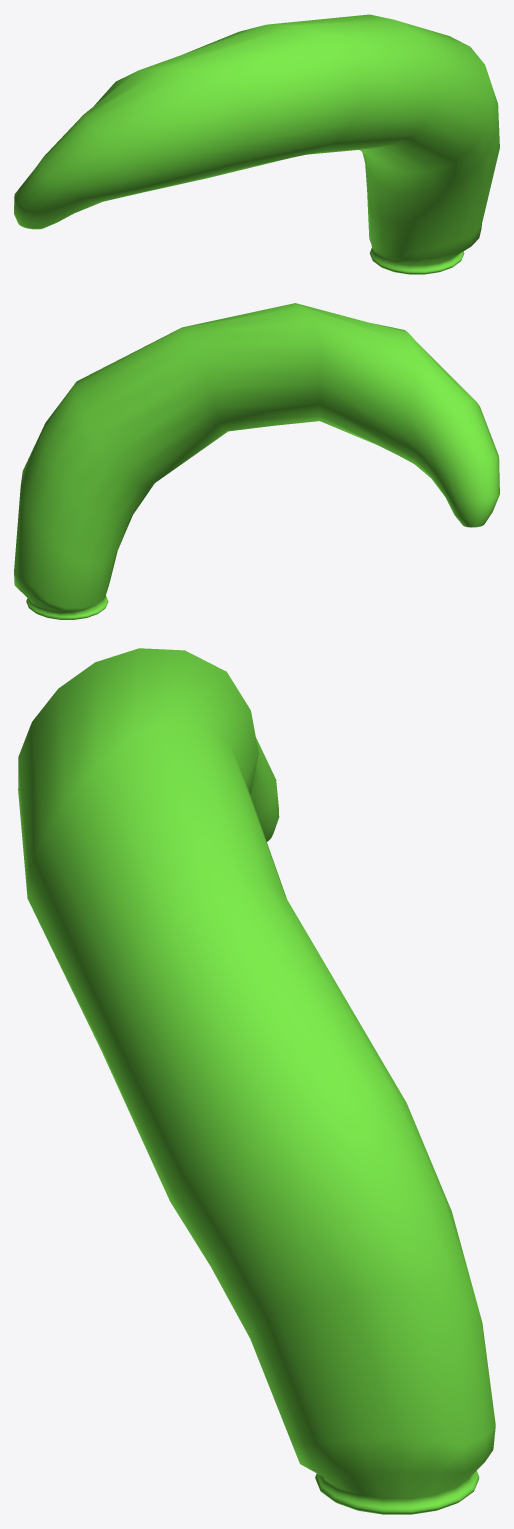
File: sm_champignonCorps3.fbx
The picture shows the model from 3 angles, top to bottom: view 1: azimuth 30°, elevation 25°; view 2: azimuth 150°, elevation 25°; view 3: azimuth 270°, elevation 25°; orthographic projection. The views are drawn at different scales.
Parts seen in each view (by area): view 1: corpsChampignons3; view 2: corpsChampignons3; view 3: corpsChampignons3.
Boxes of the visible parts, x1=… form: corpsChampignons3: x1=14, y1=14, x2=499, y2=274; corpsChampignons3: x1=14, y1=303, x2=499, y2=619; corpsChampignons3: x1=18, y1=648, x2=495, y2=1514.
Bounding box in the file's own units: 815 × 515 × 385.
